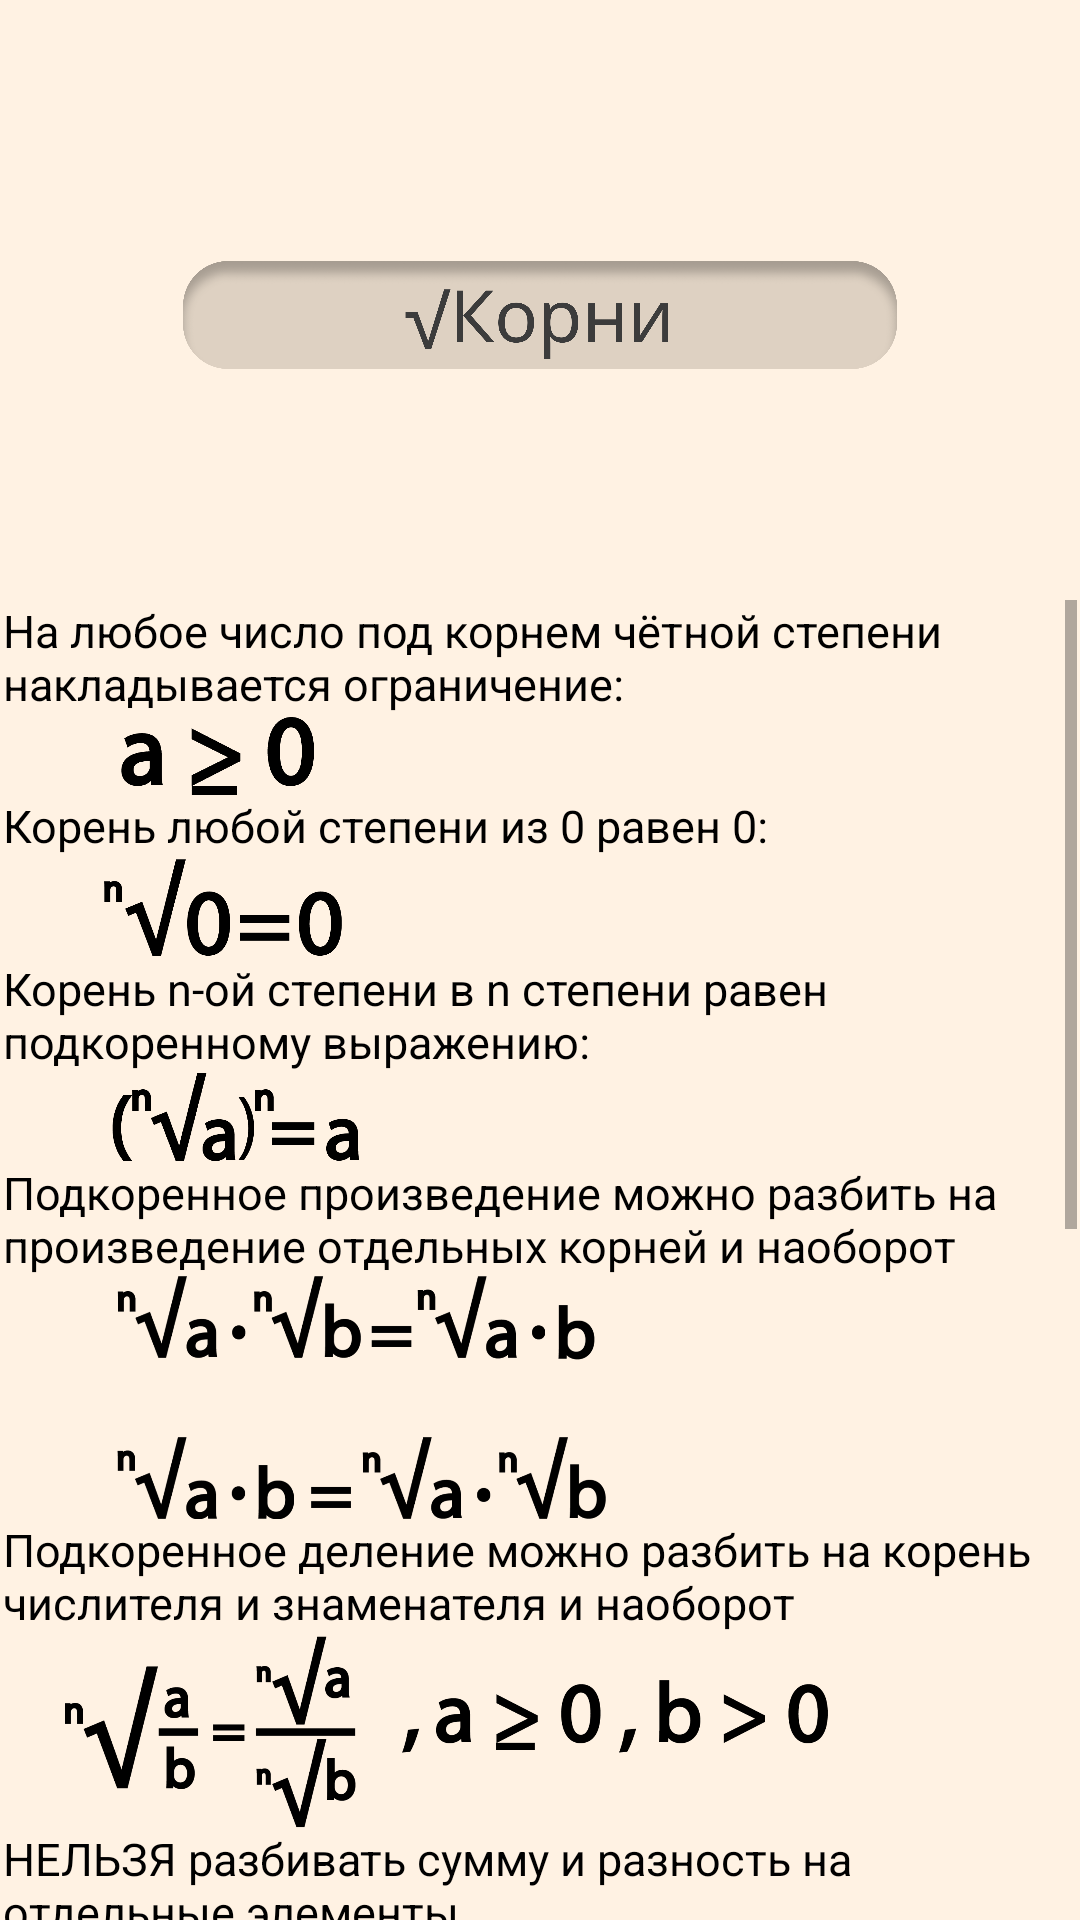

Screen size 1080*1920. Icon name, then its box in pixels as [x1,y1,x2,y2]:
zeroroot: [104,859,342,956]
